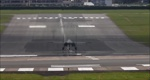maybay_muctieu: (54, 34, 84, 53)
